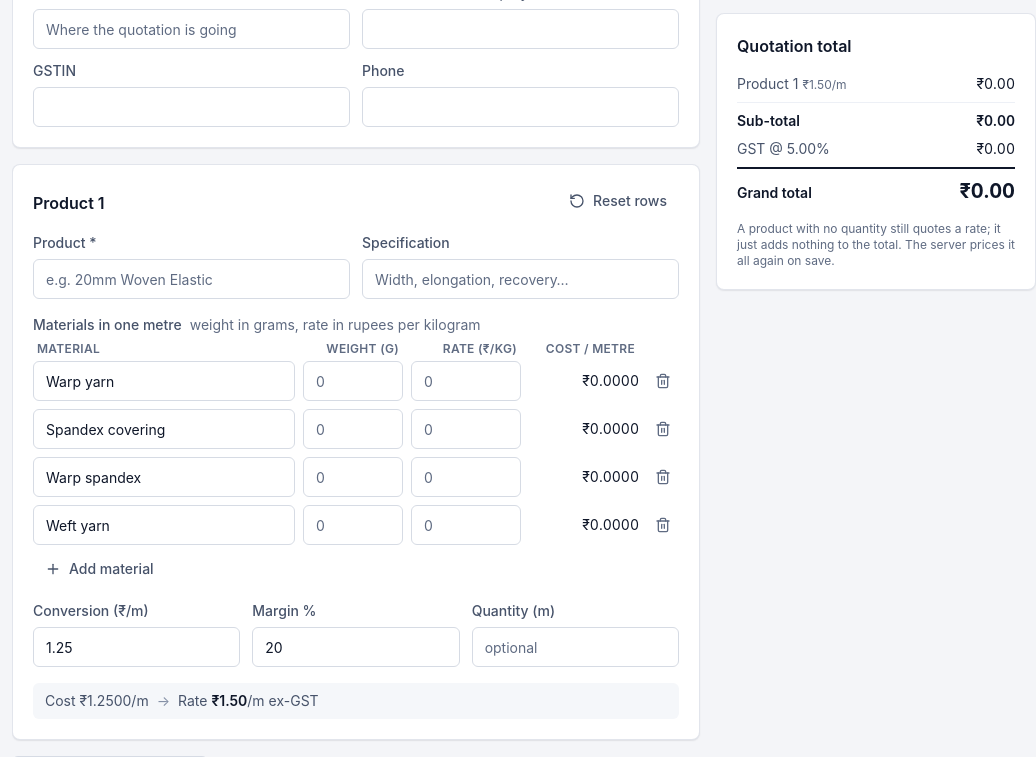
Scenario: the price as you type › recomputes when the margin changes
(page scrolled)
Type "4.2" into the 1st number field with placeholder "0" at (353, 381), box [303,361,403,401]
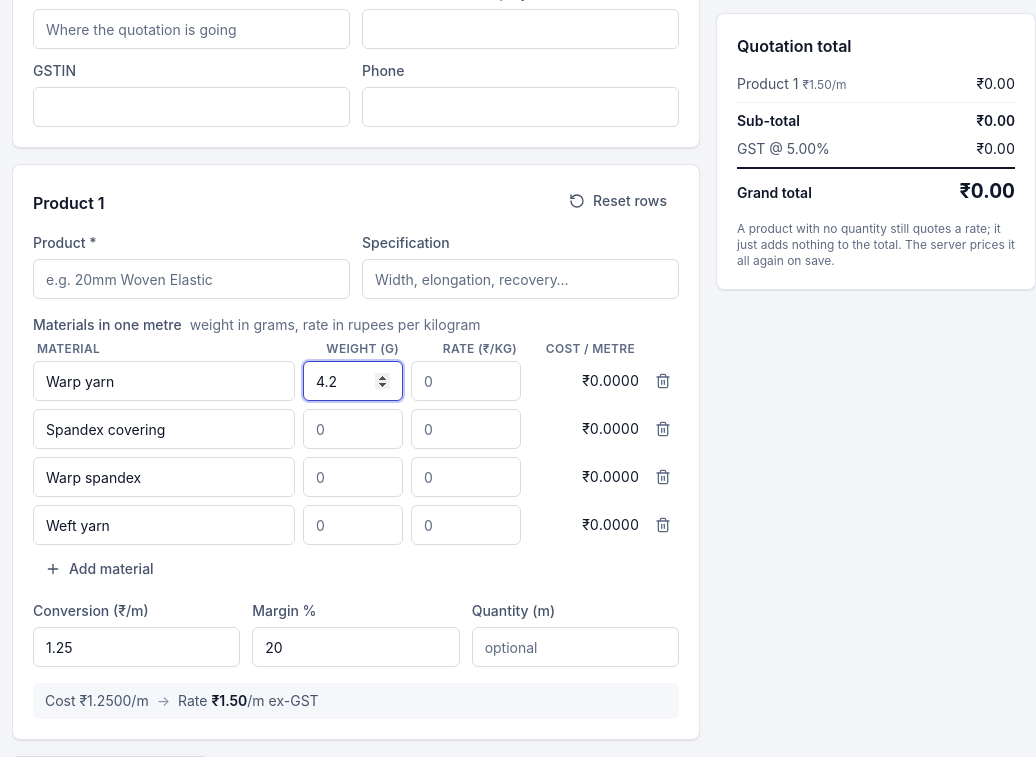
Type "240" into the 1st number field with placeholder "0" at (466, 381), box [411,361,521,401]
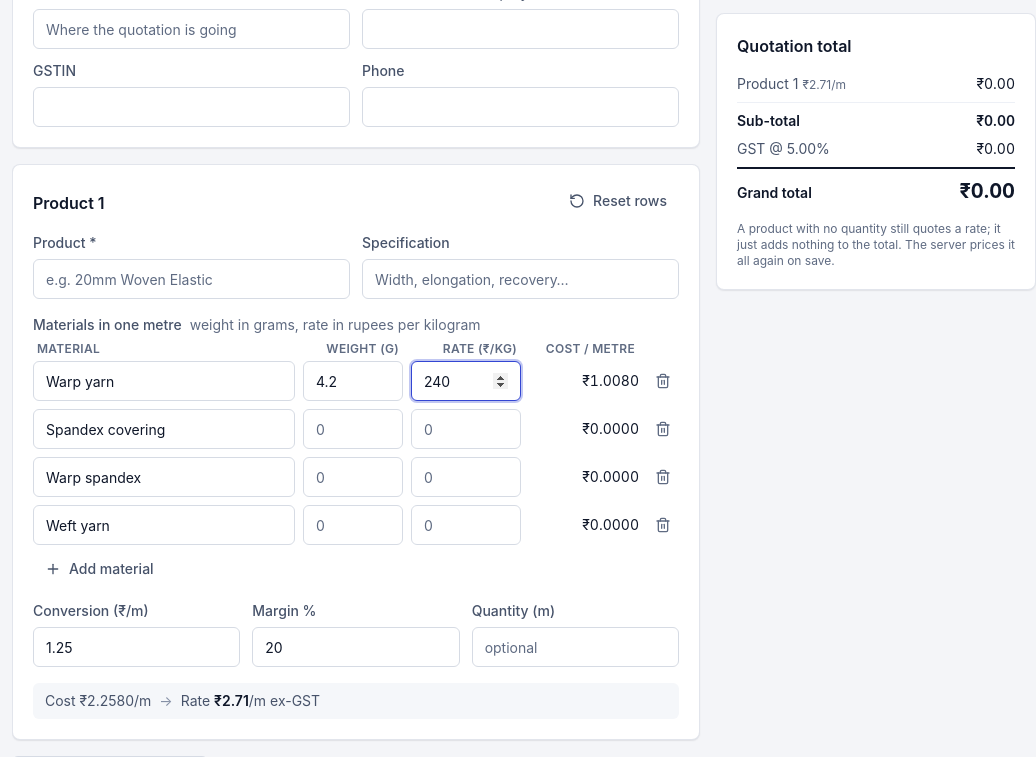
Replace the text in the number field named "margin percent for product 1" with "50" at (356, 647), box [252,627,460,667]
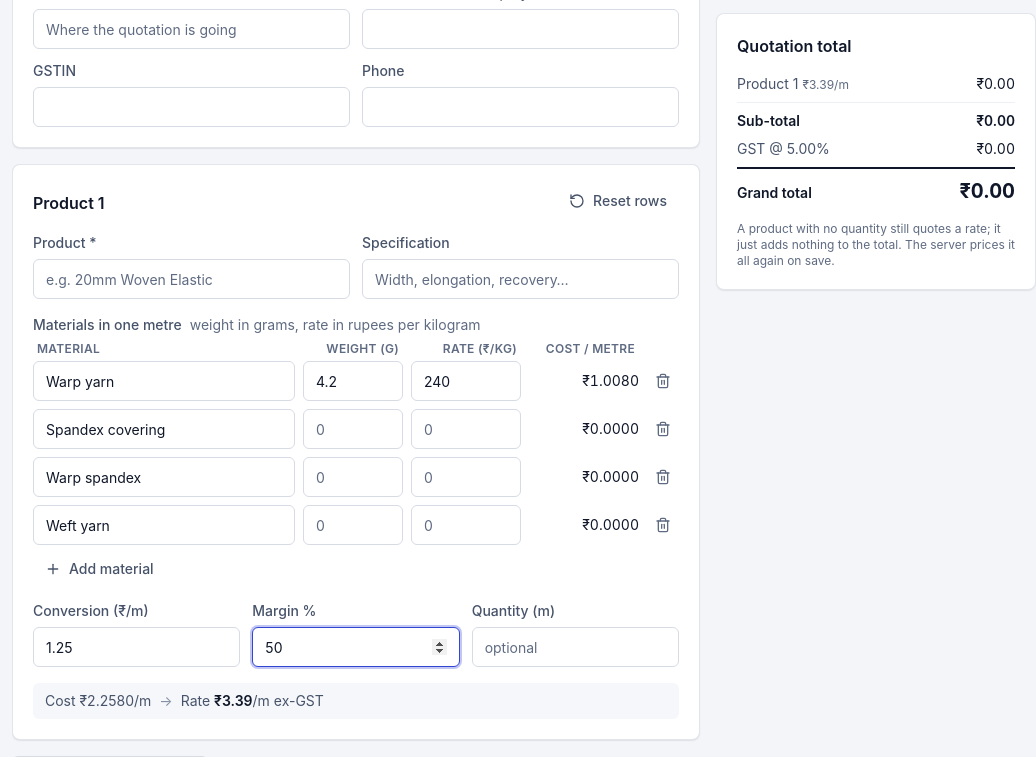
expect the text "₹3.39" is shown: met, box [214,692,253,709]
